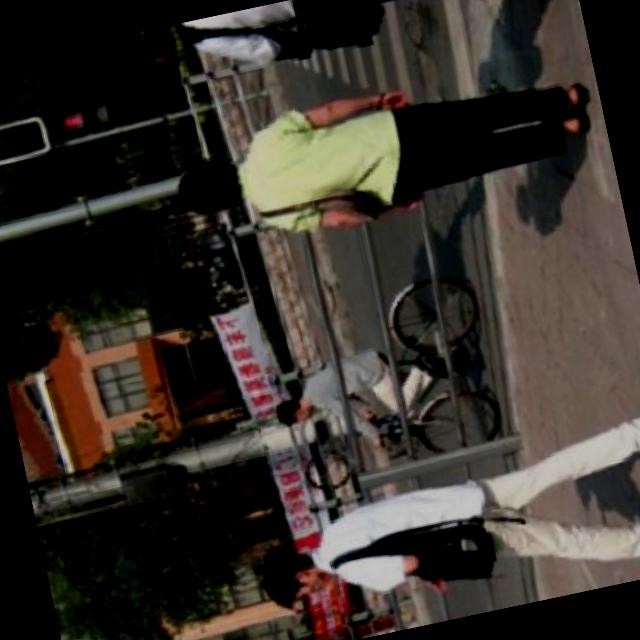Person: (162, 44, 606, 268), (233, 397, 640, 640), (85, 0, 573, 73), (268, 334, 448, 444)
